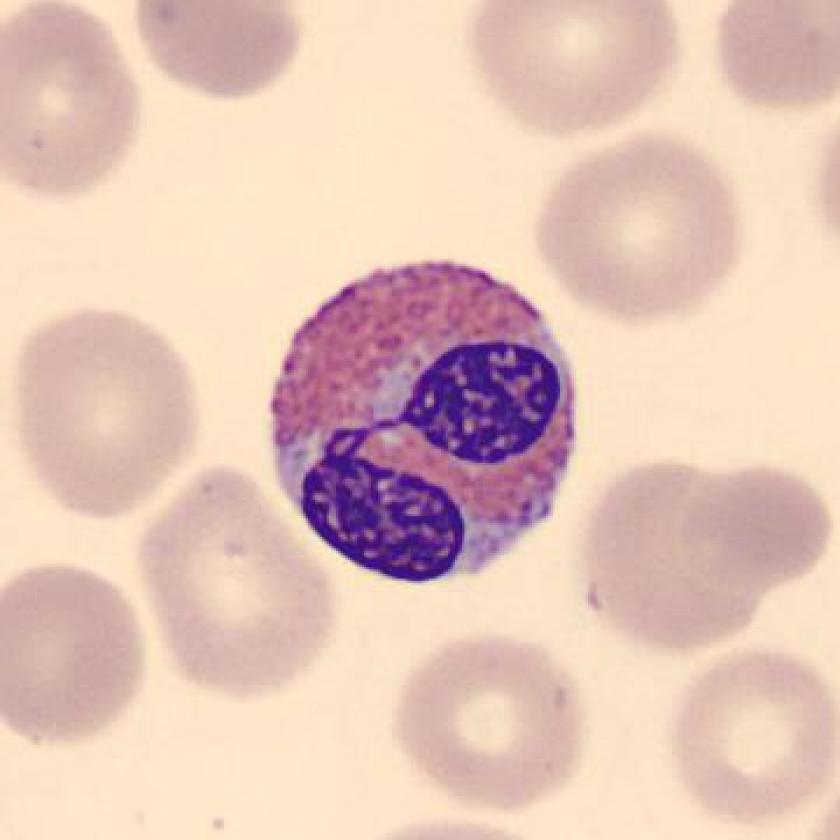eosinophil: (251, 244, 596, 596)
